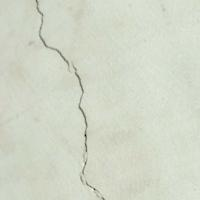crack: (22, 0, 112, 199)
